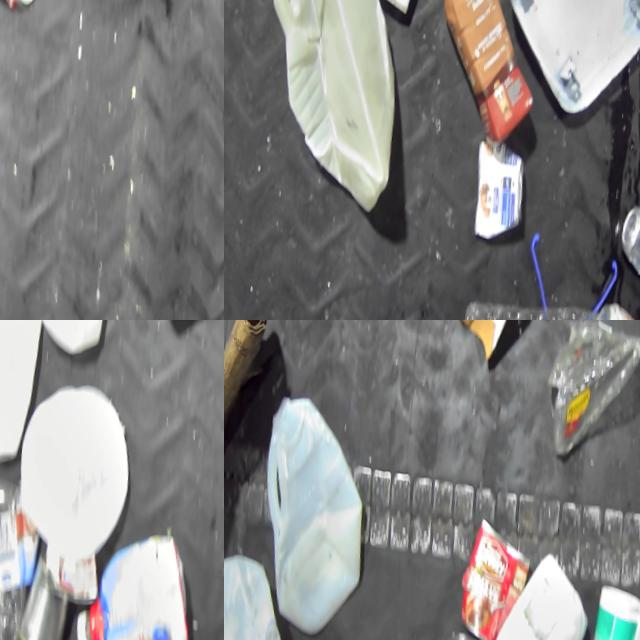can: (441, 505, 528, 636), (3, 544, 73, 640), (603, 191, 640, 291), (574, 287, 640, 320)
milk_jug: (239, 0, 424, 218), (237, 377, 379, 631), (1, 368, 137, 559), (456, 539, 594, 640), (0, 320, 48, 465), (224, 543, 285, 640)
non_white_jug: (412, 0, 549, 144), (57, 507, 198, 640)
plastic_bottle: (534, 320, 640, 446), (0, 466, 33, 640)
